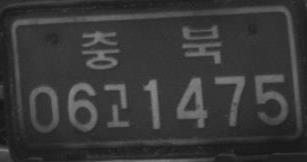0: (27, 83, 61, 132)
1: (138, 79, 171, 129)
4: (175, 77, 208, 128)
5: (252, 73, 288, 126)
6: (66, 80, 98, 133)
7: (213, 74, 246, 126)
고: (103, 82, 129, 128)
충북_D: (80, 23, 224, 70)
